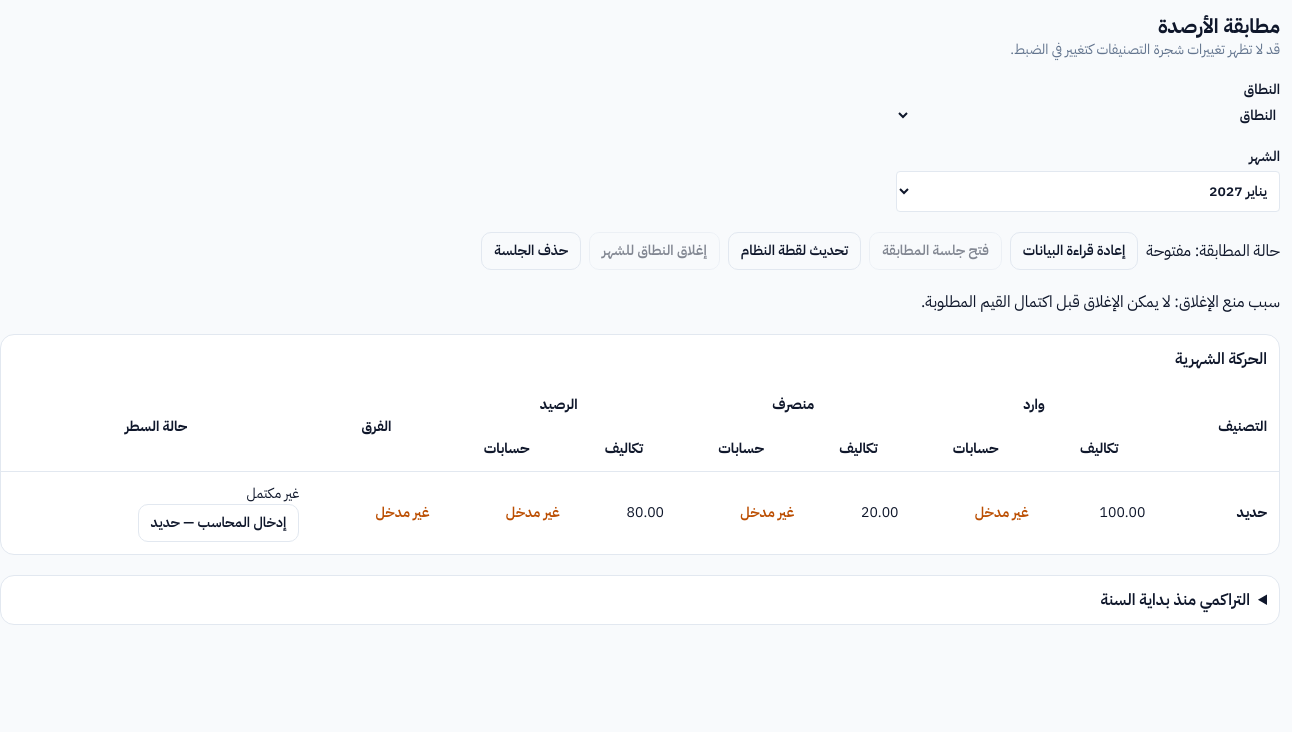
safe session deletion › does not claim success when the server rejects a concurrent recording
The image size is (1292, 732).
Click the button "حذف الجلسة" at {"x": 531, "y": 251}, box [481,232,581,270]
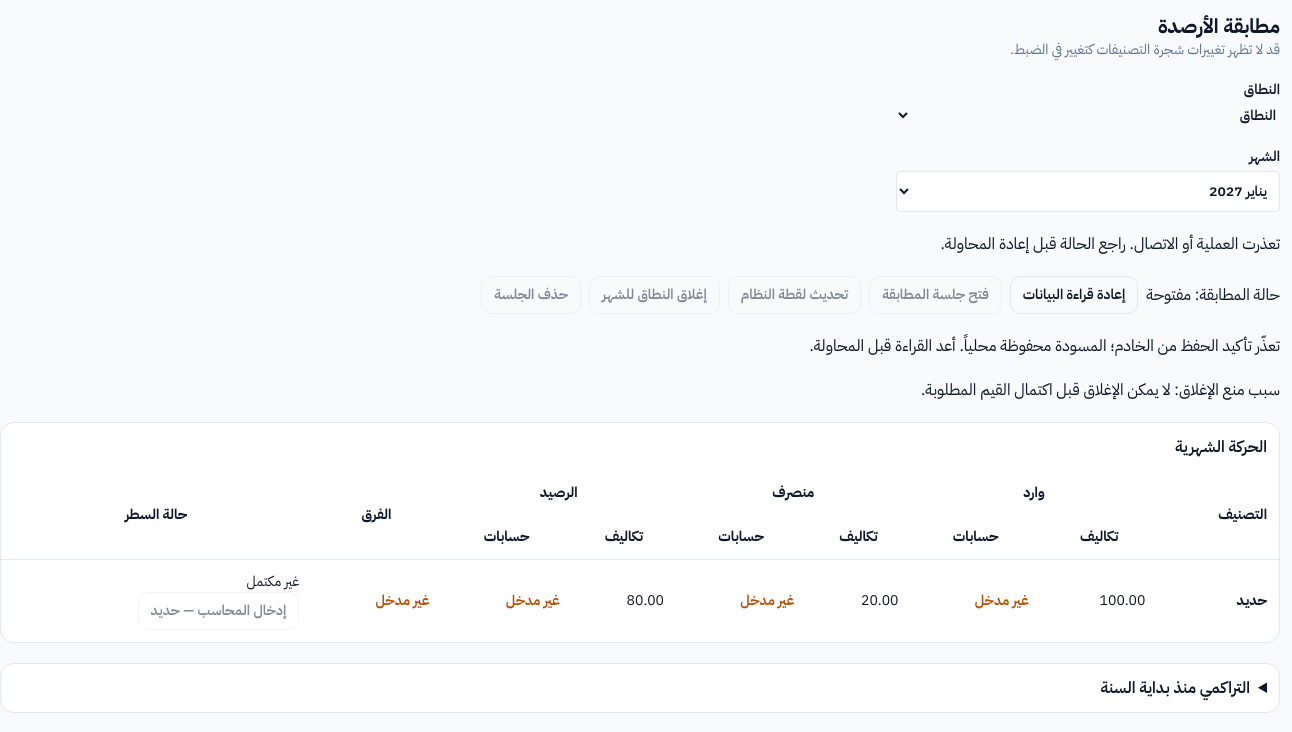
Now the text "تعذرت العملية أو الاتصال. راجع الحالة قبل إعادة المحاولة." is shown, box [940,232,1280,256]
